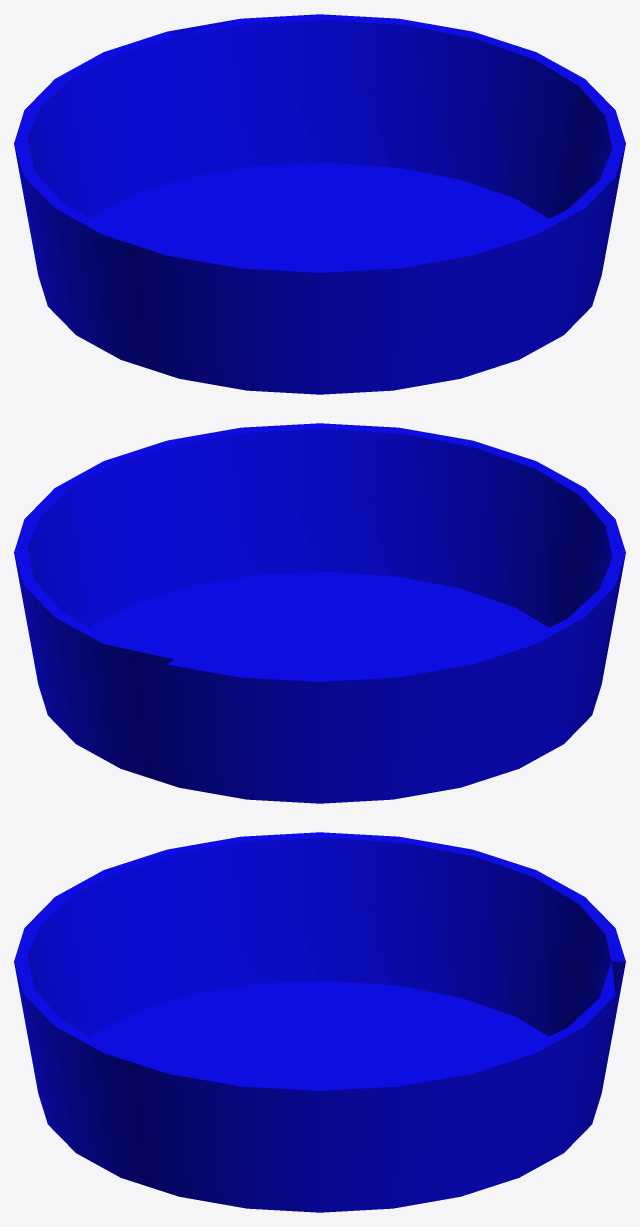
Rendered from Blue_bucket.fbx.
3 views of the same model, one above another, from view 1: azimuth 30°, elevation 25°; view 2: azimuth 150°, elevation 25°; view 3: azimuth 270°, elevation 25° (orthographic).
Parts seen in each view (by area): view 1: Model; view 2: Model; view 3: Model.
Part boxes in pixels (box(x1,y1,x2,y2)): Model: box(14, 14, 625, 394); Model: box(14, 423, 625, 803); Model: box(14, 832, 625, 1212).
Size of the model in its own units: 1.26 by 0.3 by 1.26.
